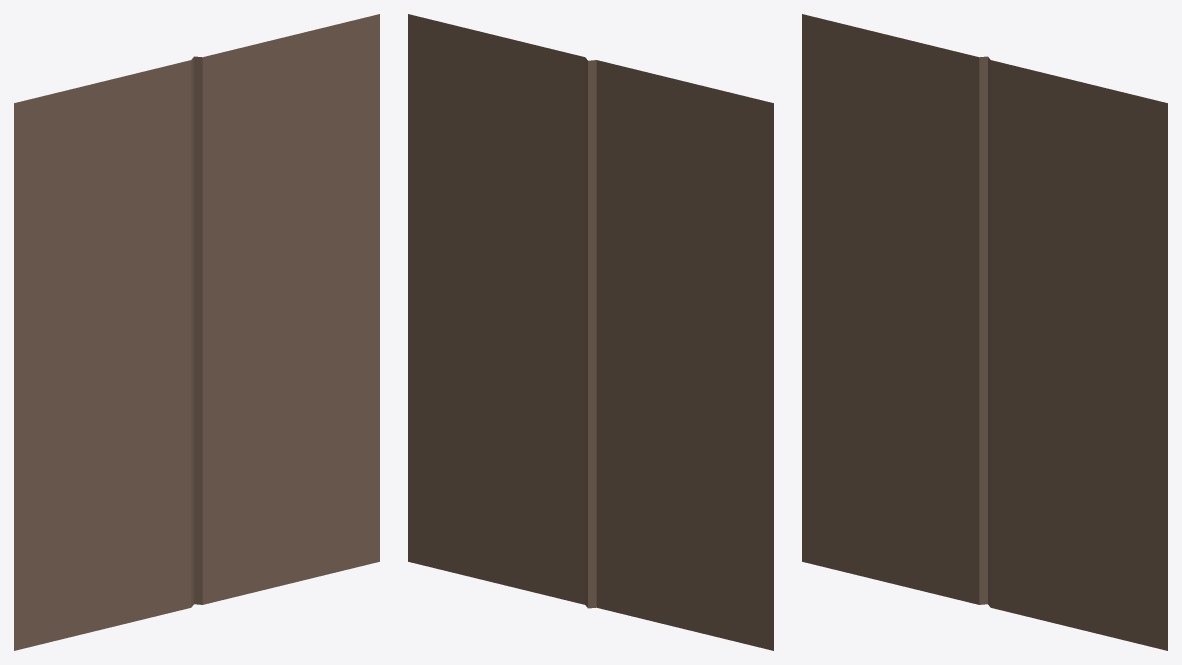
The model's file is Door_Elevator.fbx.
3 renders of one model, left to right at view 1: azimuth 30°, elevation 25°; view 2: azimuth 150°, elevation 25°; view 3: azimuth 330°, elevation 25°, orthographic.
Parts seen in each view (by area): view 1: Door; view 2: Door; view 3: Door.
Part boxes in pixels (x1,y1,x2,y2): Door: (14, 14, 379, 650); Door: (408, 14, 773, 650); Door: (802, 14, 1167, 650).
Size of the model in its own units: 1.61 by 2.31 by 0.0222.
